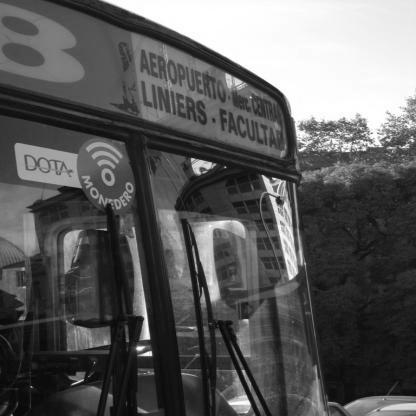bus: (2, 1, 336, 416)
